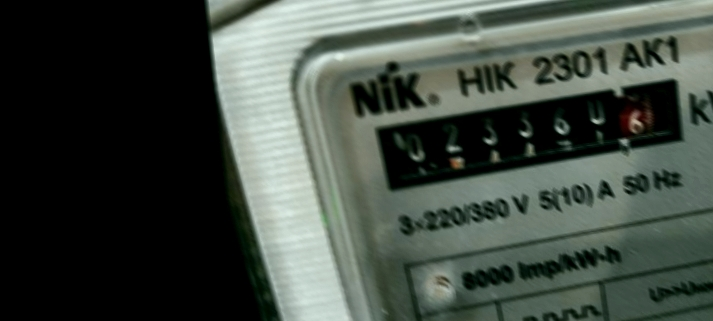0: (402, 127, 427, 163), (582, 93, 607, 127)
2: (440, 118, 463, 153)
3: (513, 103, 535, 138), (475, 113, 498, 146)
6: (623, 102, 648, 137), (548, 101, 572, 136)
screen: (356, 67, 703, 198)
